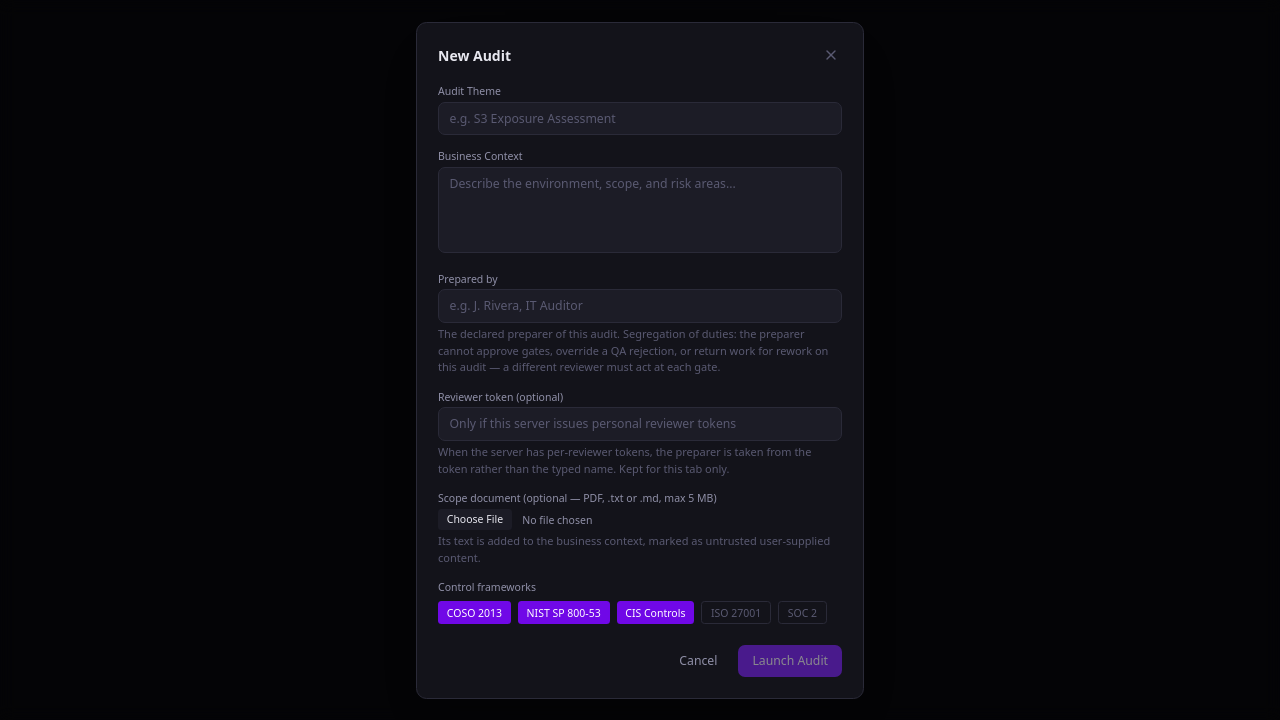
Test case: NewAuditModal › keeps Launch Audit disabled until prepared_by is filled in
This screenshot has width=1280, height=720.
Type "IAM review" into the field with placeholder "e.g. S3 Exposure Assessment" at coordinates (640, 118), box left=438, top=102, right=842, bottom=135
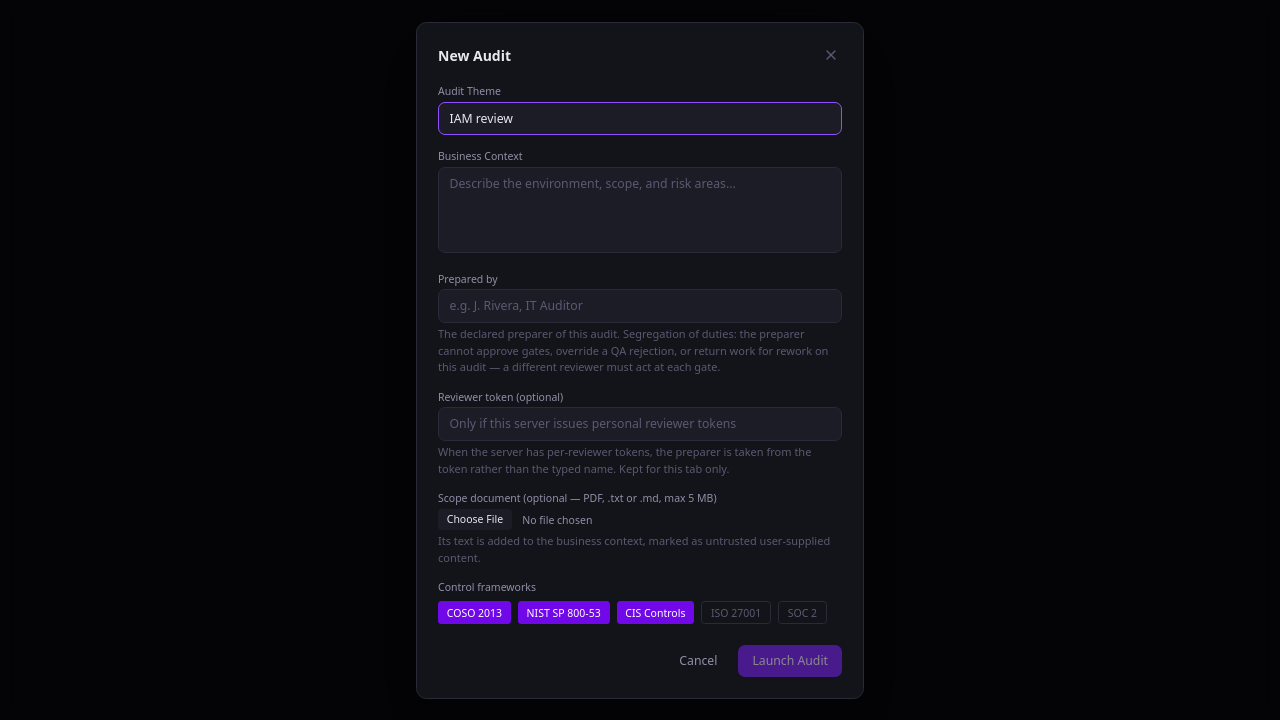
Type "Production AWS account." into the text box with placeholder "Describe the environment, scope, and risk areas..." at coordinates (640, 210), box left=438, top=166, right=842, bottom=252
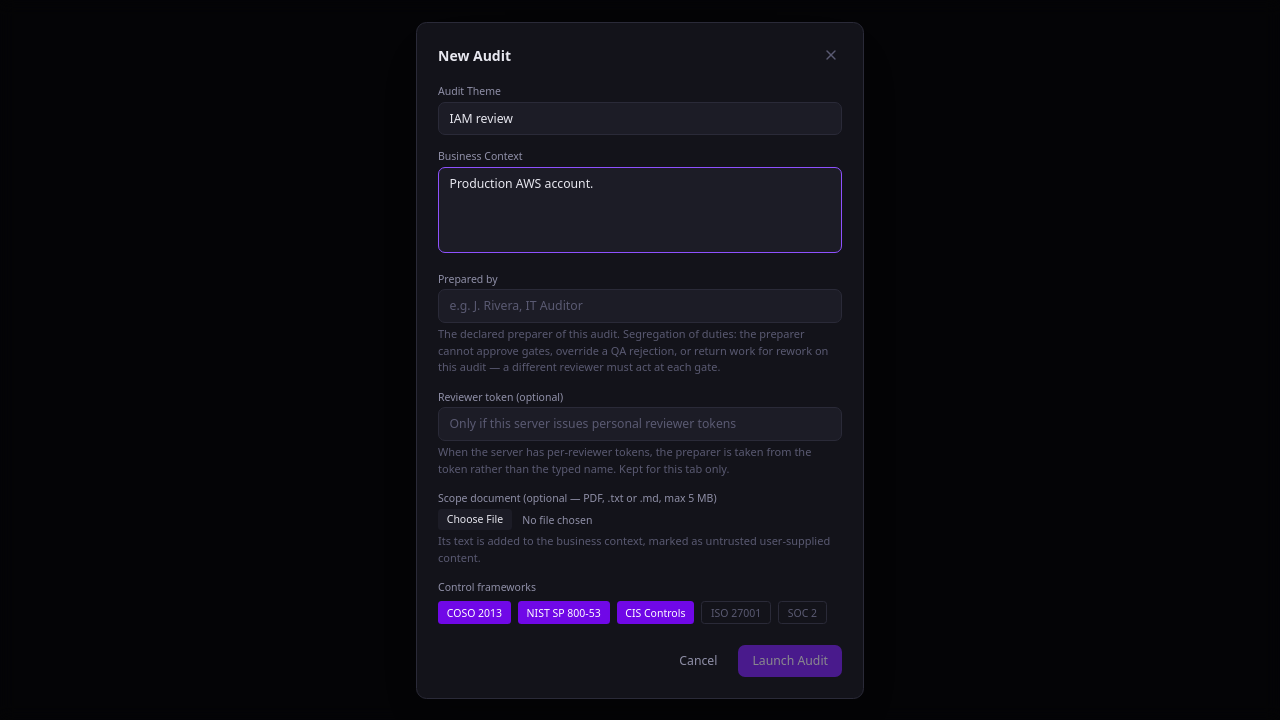
Expected: the button "Launch Audit" is disabled, left=738, top=645, right=842, bottom=676
Type "J. Rivera, IT Auditor" into the field with placeholder "e.g. J. Rivera, IT Auditor" at coordinates (640, 306), box left=438, top=289, right=842, bottom=322
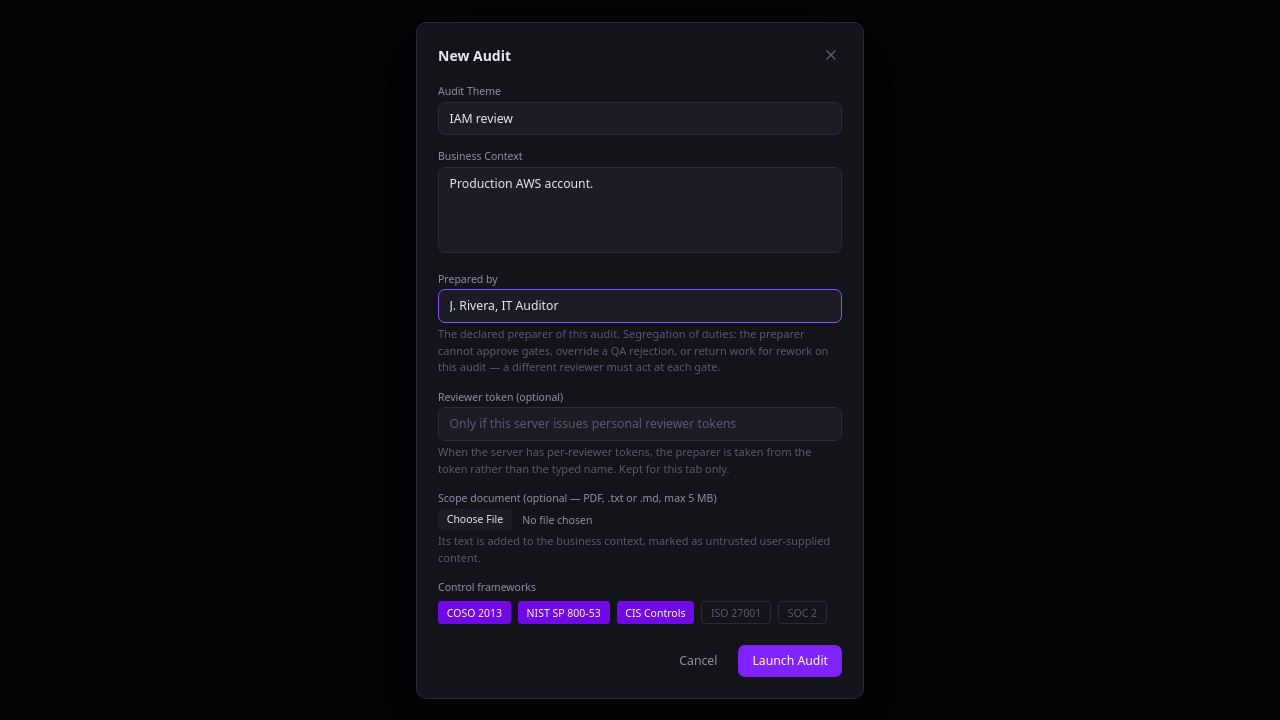
Result: the button "Launch Audit" is enabled at left=738, top=645, right=842, bottom=676
